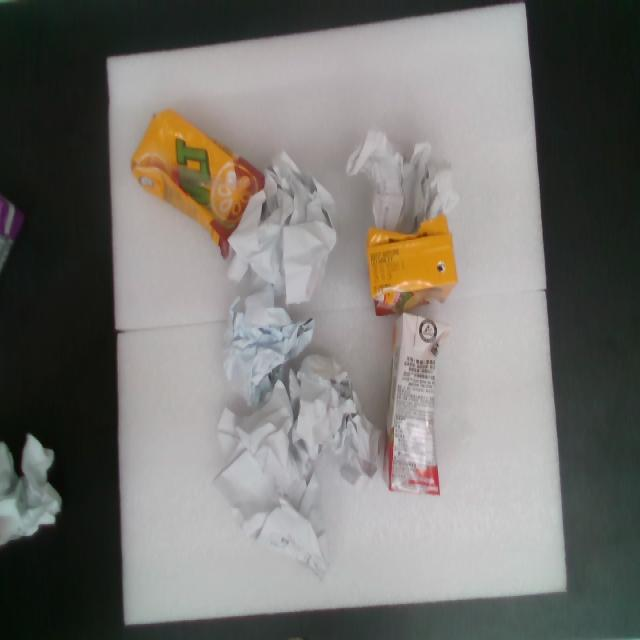juicebox: (98, 87, 295, 271), (378, 300, 456, 503), (351, 201, 469, 328)
paper: (174, 362, 334, 625), (195, 129, 379, 331), (258, 326, 405, 512), (175, 254, 334, 424), (330, 110, 479, 258)
